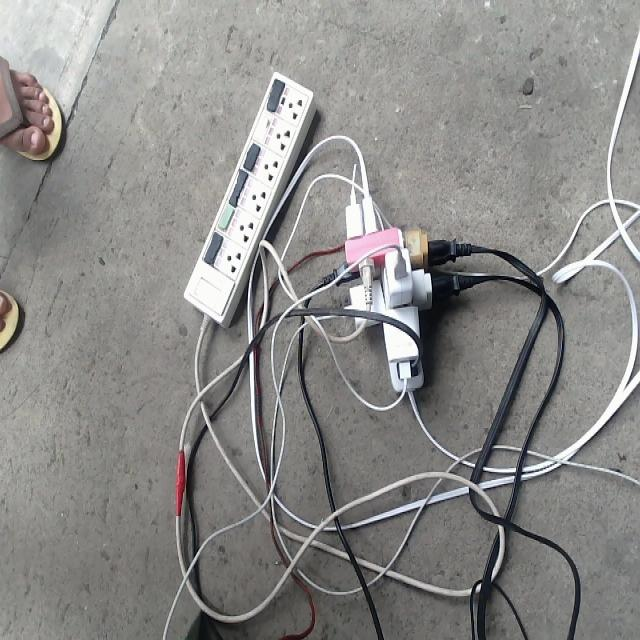-: (315, 184, 473, 389)
